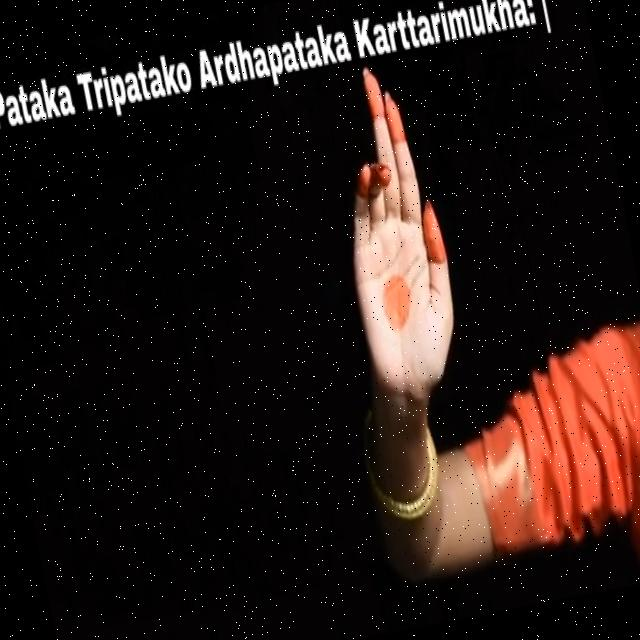Ardhapataka: (292, 52, 493, 442)
bangle: (351, 424, 458, 535)
text: (0, 0, 556, 147)
